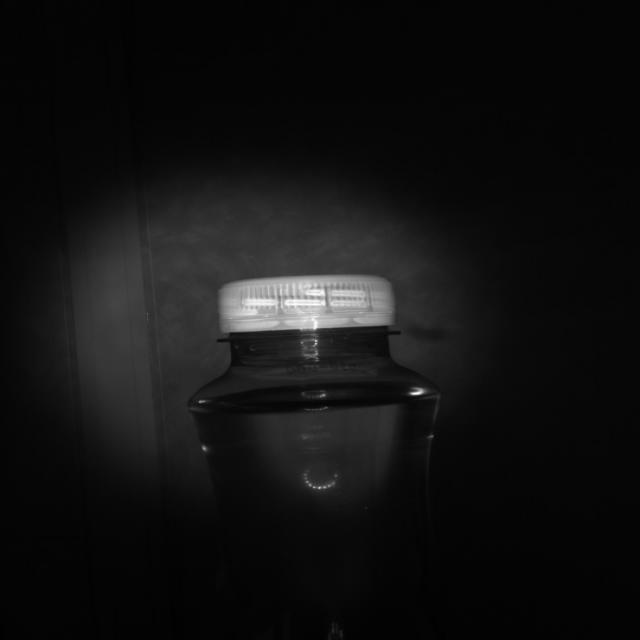Good: (214, 272, 398, 334)
